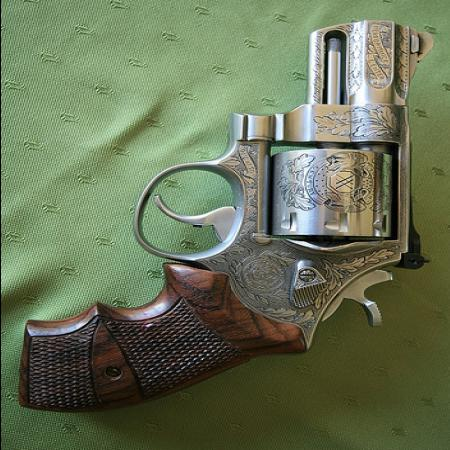Pistol: (16, 18, 436, 410)
